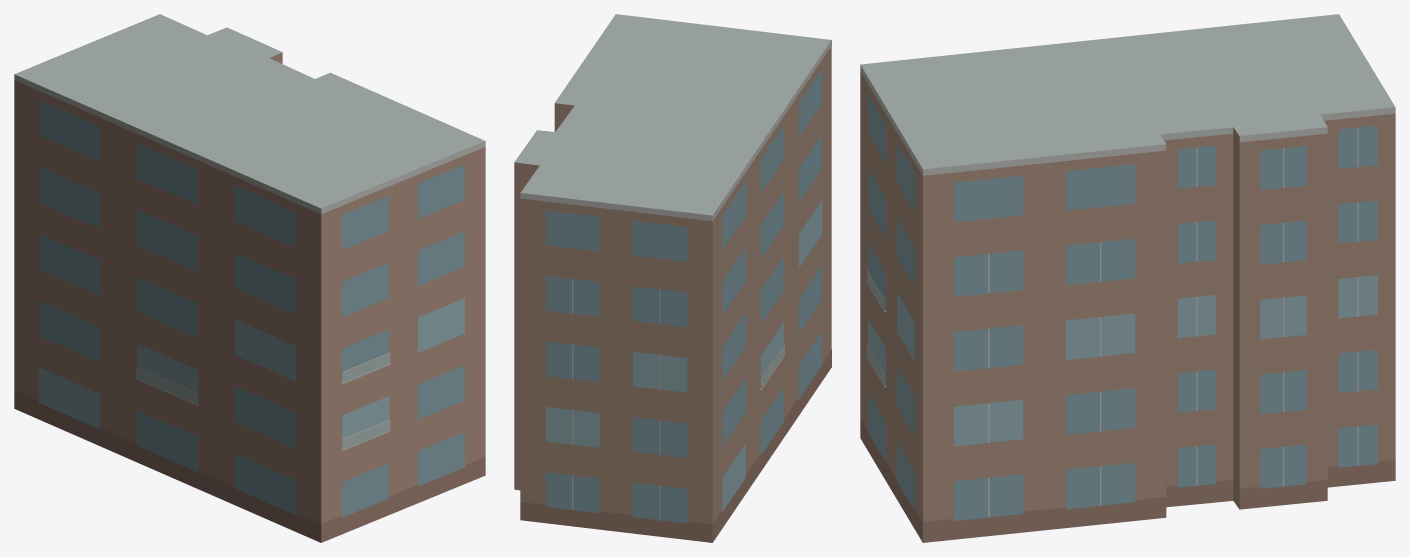
File: survey-upis-32650883.glb
The picture shows the model from 3 angles, left to right: view 1: azimuth 30°, elevation 25°; view 2: azimuth 150°, elevation 25°; view 3: azimuth 270°, elevation 25°; orthographic projection. The views are drawn at different scales.
Parts seen in each view (by area): view 1: survey-upis-32650883.tmp; view 2: survey-upis-32650883.tmp; view 3: survey-upis-32650883.tmp.
Part boxes in pixels (<box>): survey-upis-32650883.tmp: <box>14,14,485,542</box>; survey-upis-32650883.tmp: <box>514,14,831,542</box>; survey-upis-32650883.tmp: <box>860,14,1395,542</box>.
Size of the model in its own units: 12.68 by 14.2 by 18.45.
